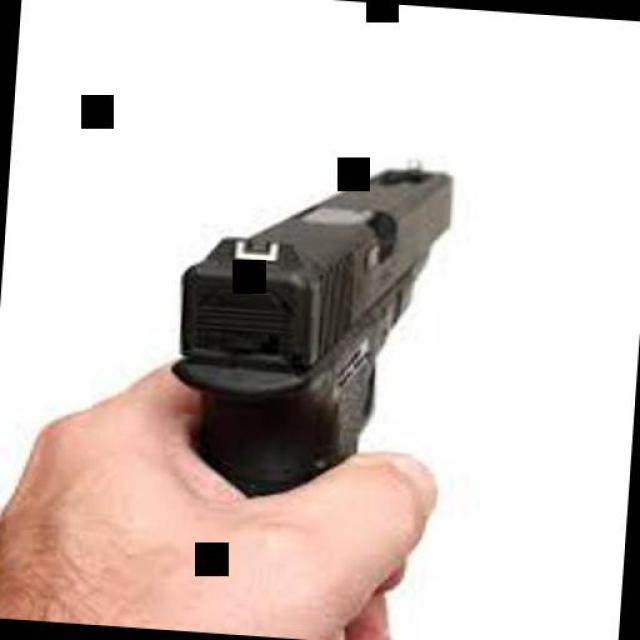gun: (152, 110, 458, 504)
